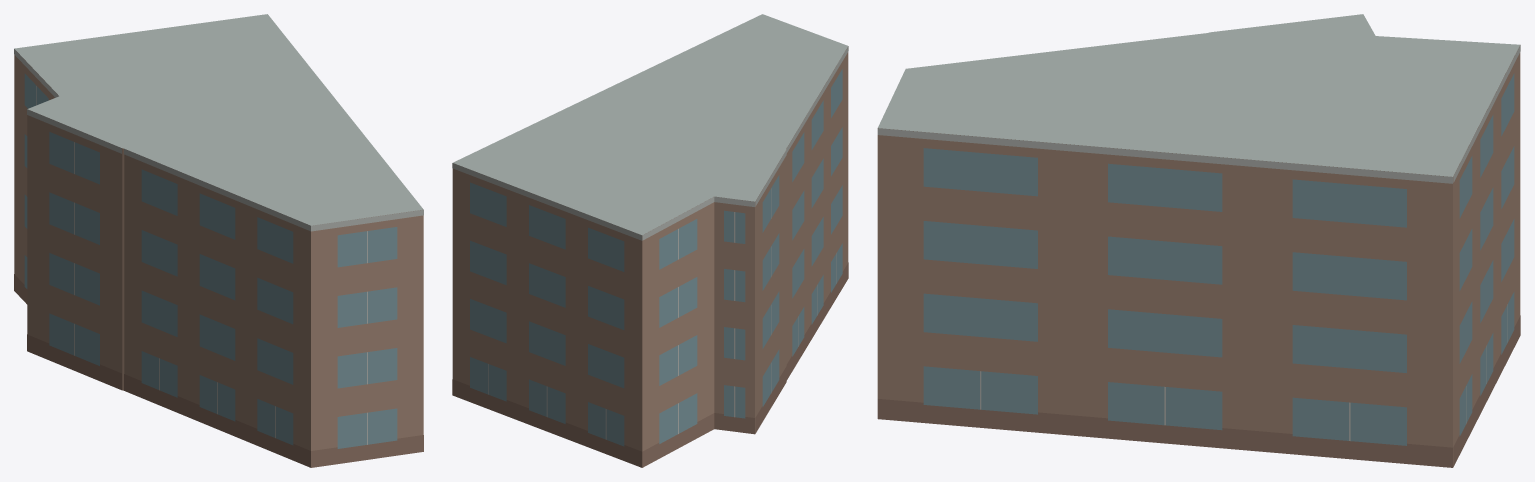
Rendered from survey-upis-33015512.glb.
The picture shows the model from 3 angles, left to right: view 1: azimuth 30°, elevation 25°; view 2: azimuth 150°, elevation 25°; view 3: azimuth 270°, elevation 25°; orthographic projection. The views are drawn at different scales.
Visible parts, largest first — view 1: survey-upis-33015512.tmp; view 2: survey-upis-33015512.tmp; view 3: survey-upis-33015512.tmp.
Part boxes in pixels (<box>): survey-upis-33015512.tmp: <box>14,14,423,467</box>; survey-upis-33015512.tmp: <box>452,14,848,467</box>; survey-upis-33015512.tmp: <box>877,14,1520,467</box>.
Bounding box in the file's own units: 12.25 × 10.2 × 20.43.
